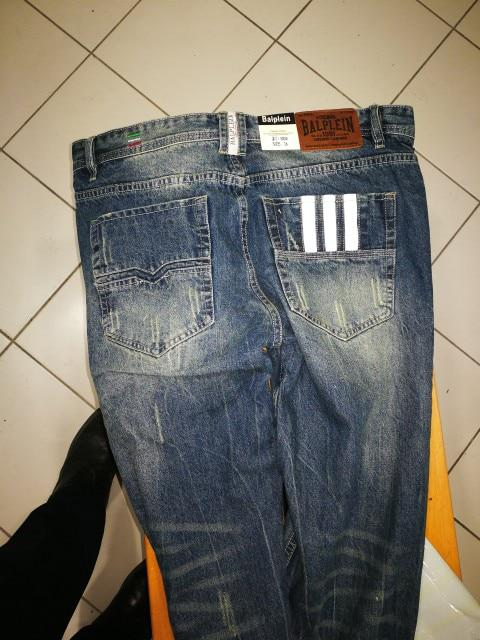jeans: (94, 109, 428, 640)
